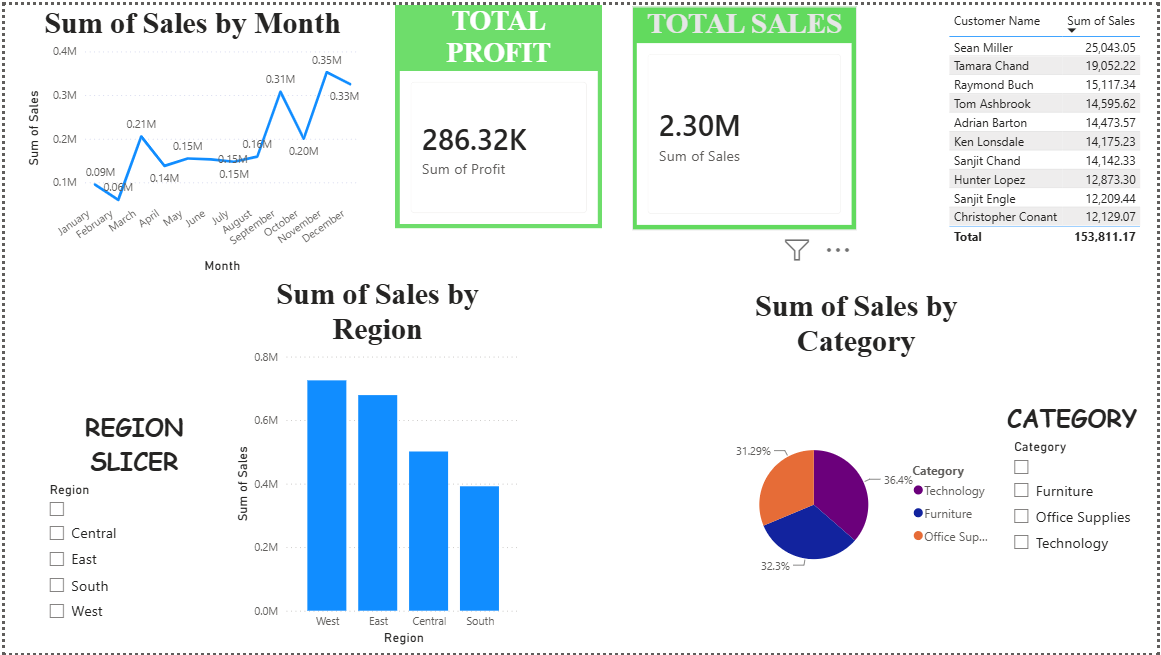

The page's visual inventory and layout, read from the dashboard file:
{"tool":"powerbi","page":{"name":"Duplicate of Page 1","canvas":[1280,720],"ordinal":1},"visuals":[{"type":"cardVisual","title":"TOTAL SALES","fields":{"Data":["Sum(CLEANED DATA.Sales)"]},"box":[696.4,1.8,250,248.2],"z":0},{"type":"cardVisual","title":"TOTAL PROFIT","fields":{"Data":["Sum(CLEANED DATA.Profit)"]},"box":[434,0,230,248],"z":1000},{"type":"columnChart","fields":{"Category":["CLEANED DATA.Region"],"Y":["Sum(CLEANED DATA.Sales)"]},"box":[250,302,328,414],"z":2000},{"type":"lineChart","fields":{"Y":["Sum(CLEANED DATA.Sales)"],"Category":["CLEANED DATA.Order Date.Variation.Date Hierarchy.Month"]},"box":[18,0,380,302],"z":3000},{"type":"pieChart","fields":{"Category":["CLEANED DATA.Category"],"Y":["Sum(CLEANED DATA.Sales)"]},"box":[782.5,315,325,405],"z":4000},{"type":"tableEx","fields":{"Values":["CLEANED DATA.Customer Name","Sum(CLEANED DATA.Sales)"]},"box":[1044,2,236,284],"z":5000},{"type":"slicer","title":"REGION SLICER","fields":{"Values":["CLEANED DATA.Region"]},"box":[36,450,214,258],"z":6000},{"type":"slicer","title":"CATEGORY","fields":{"Values":["CLEANED DATA.Category"]},"box":[1108,440,172,280],"z":7000}]}

Visuals, with their boxes in screenshot pixels (x1, y1, x2, y2), scaled from the page's 1280x720 canvas onto the 1161x655 screenshot:
"TOTAL SALES" cardVisual: 632, 2, 858, 227
"TOTAL PROFIT" cardVisual: 394, 0, 602, 226
columnChart - CLEANED DATA.Region x Sum(CLEANED DATA.Sales): 227, 275, 524, 651
lineChart - Sum(CLEANED DATA.Sales) x CLEANED DATA.Order Date.Variation.Date Hierarchy.Month: 16, 0, 361, 275
pieChart - CLEANED DATA.Category x Sum(CLEANED DATA.Sales): 710, 287, 1005, 654
tableEx - CLEANED DATA.Customer Name x Sum(CLEANED DATA.Sales): 947, 2, 1160, 260
"REGION SLICER" slicer: 33, 409, 227, 644
"CATEGORY" slicer: 1005, 400, 1160, 654
